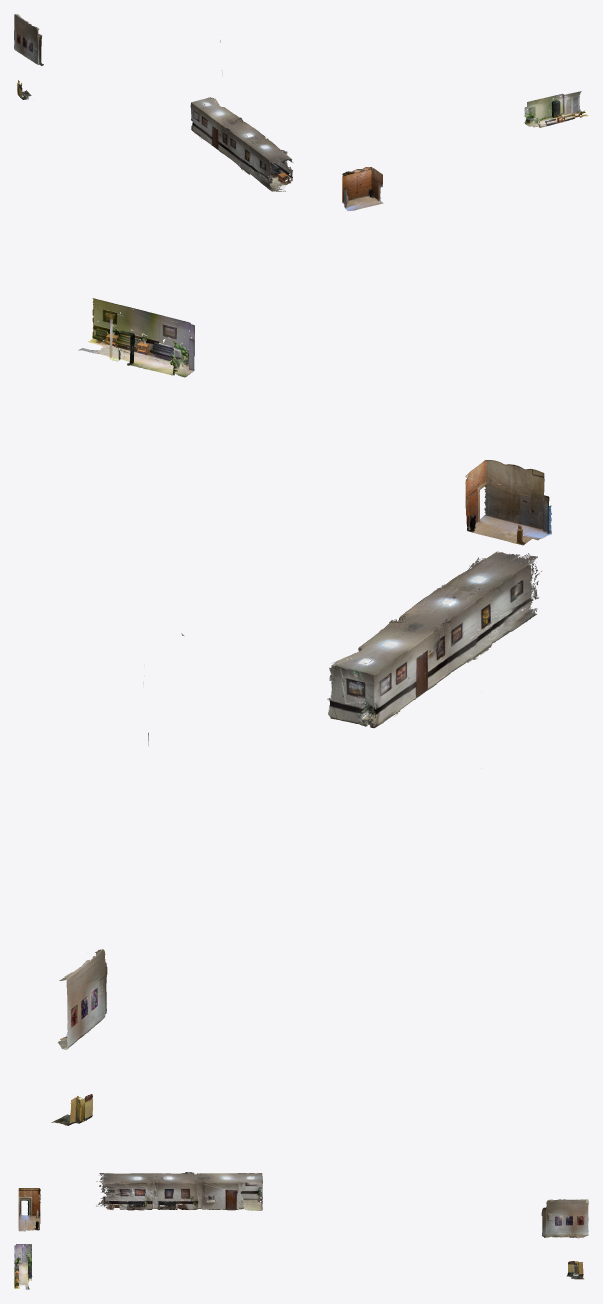
Rendered from scan2.glb.
3 renders of one model, top to bottom at view 1: azimuth 30°, elevation 25°; view 2: azimuth 150°, elevation 25°; view 3: azimuth 270°, elevation 25°, orthographic. The views are drawn at different scales.
Parts seen in each view (by area): view 1: korpus; view 2: korpus; view 3: korpus.
Part boxes in pixels (x1,y1,x2,y2): korpus: (14,14,588,269); korpus: (51,298,551,1125); korpus: (14,1172,588,1289).
Size of the model in its own units: 30.13 by 15.85 by 54.2.
8 materials, 7 textured.
